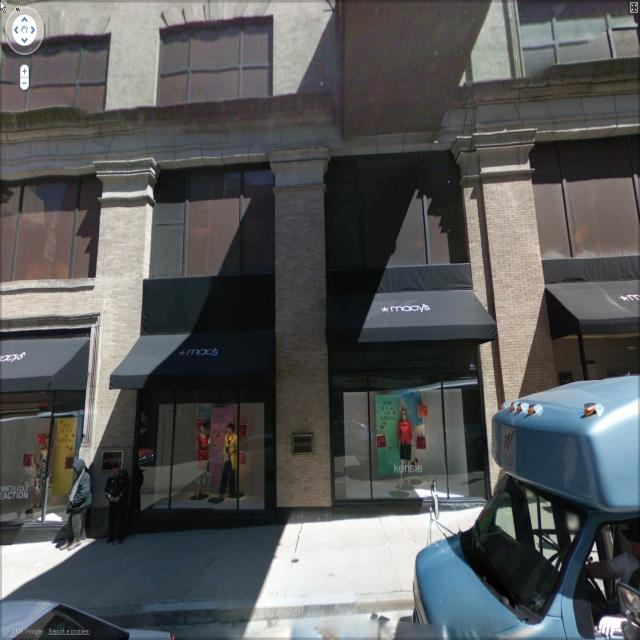b_1: (2, 1, 636, 493)
